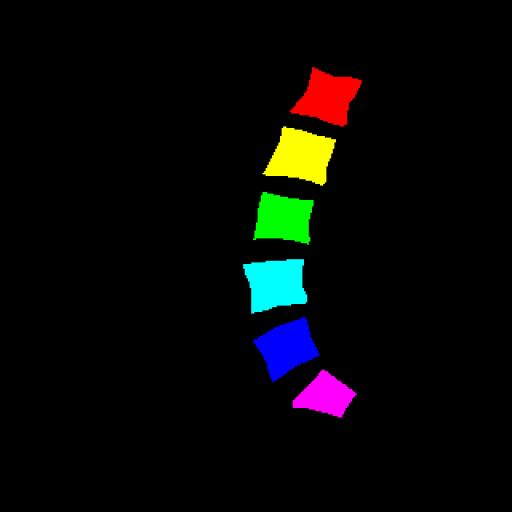L1: (290, 67, 362, 126)
L2: (263, 127, 336, 184)
L3: (254, 192, 314, 244)
L4: (243, 259, 307, 312)
L5: (254, 317, 319, 380)
S1: (293, 370, 356, 418)
